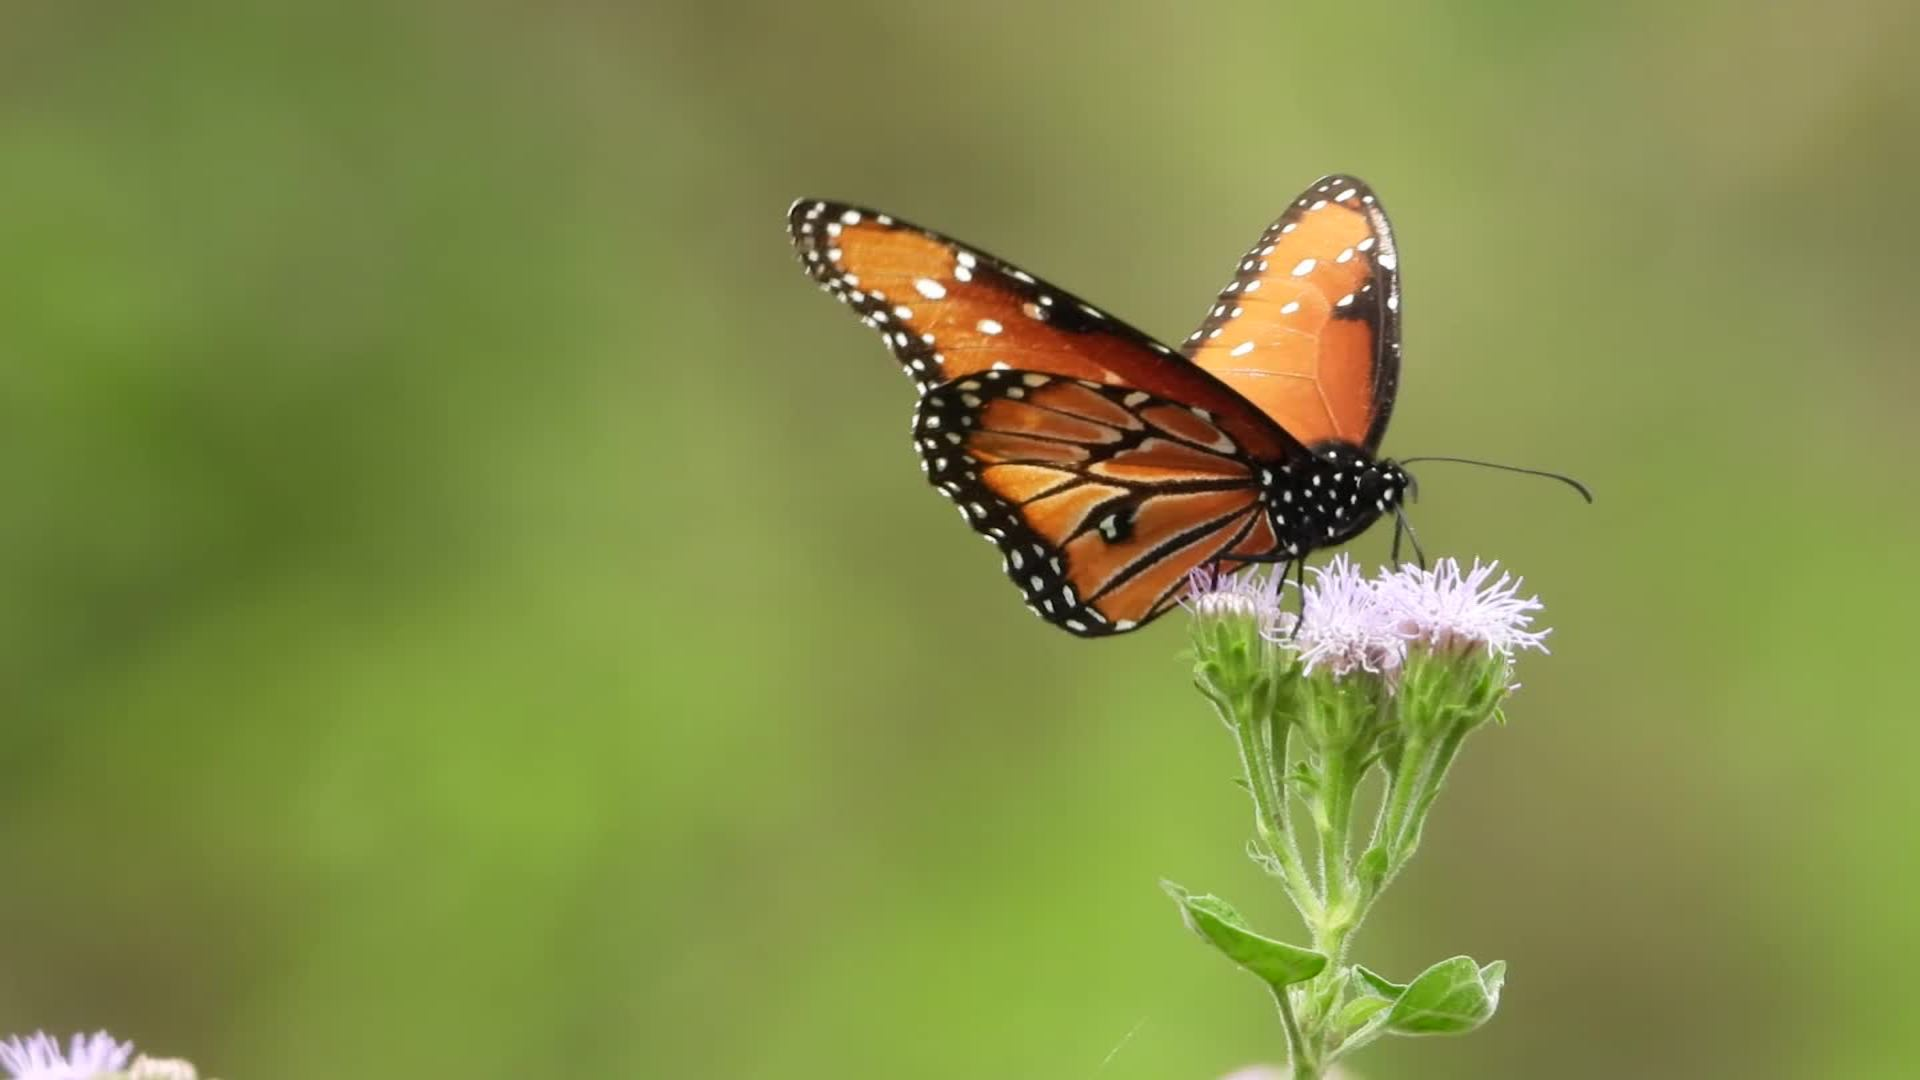kelebek: (765, 156, 1598, 641)
